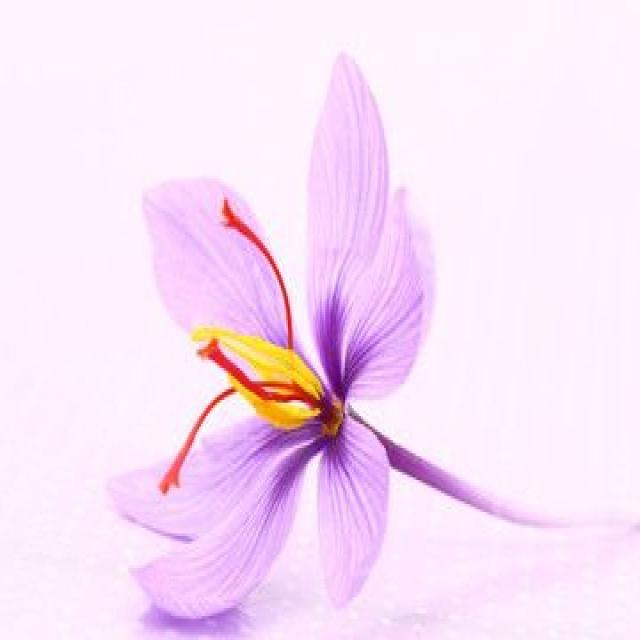Flower: (110, 56, 442, 617)
stigma: (155, 377, 320, 501), (209, 190, 298, 350), (190, 331, 325, 408)
